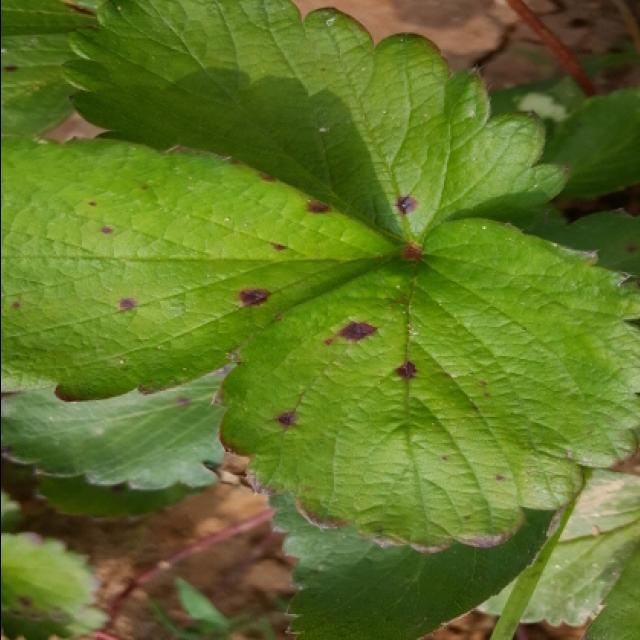Leaf Spot: (211, 218, 640, 555), (60, 2, 572, 254), (2, 131, 406, 405), (2, 365, 235, 494), (2, 2, 96, 136), (2, 530, 112, 640), (33, 477, 208, 524), (551, 207, 640, 280)
